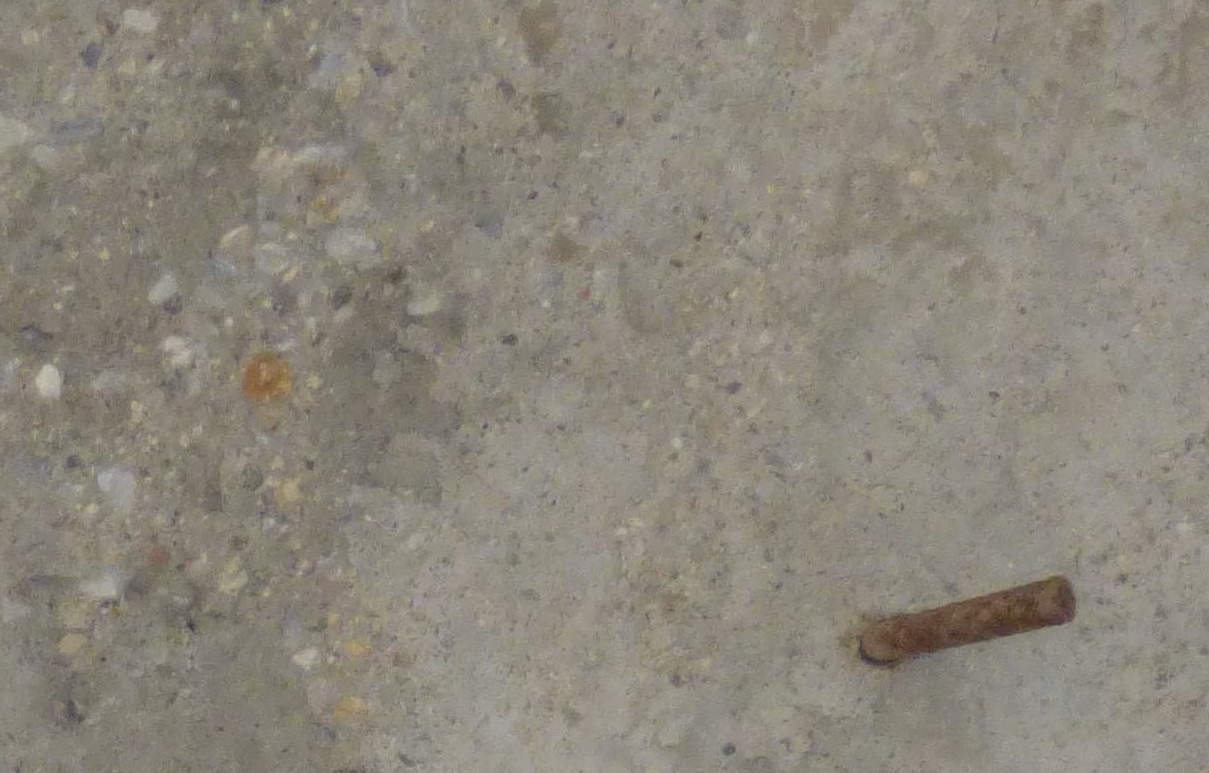Corrosion: (242, 355, 288, 403)
Exposed reinforcement: (860, 575, 1077, 663)
